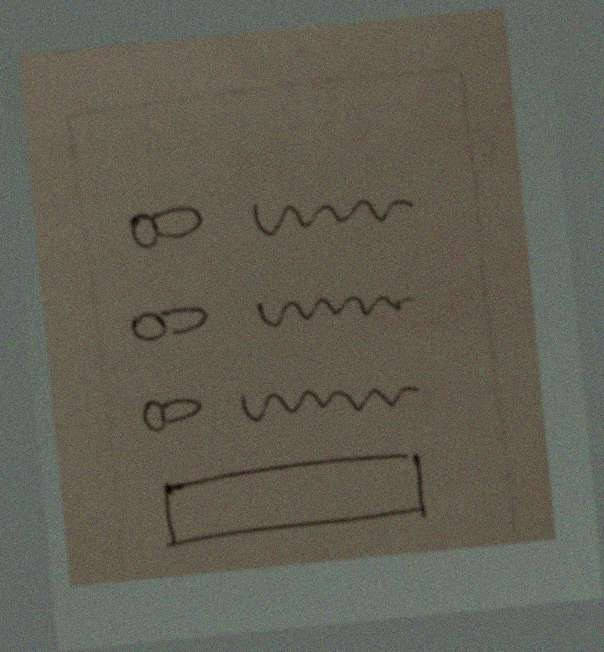switch: (116, 287, 217, 357), (121, 376, 217, 445), (122, 198, 214, 256)
text: (237, 174, 424, 251), (231, 362, 433, 432), (249, 272, 421, 339)
text_input: (142, 436, 451, 565)
